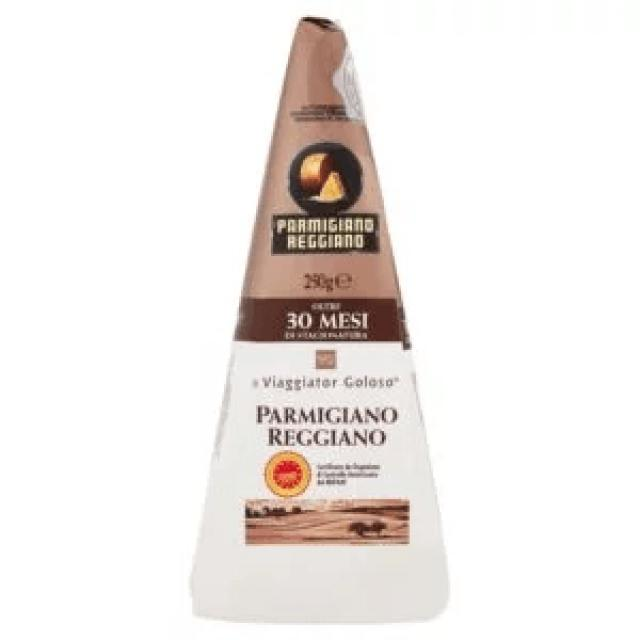Cheese: (183, 11, 454, 613)
